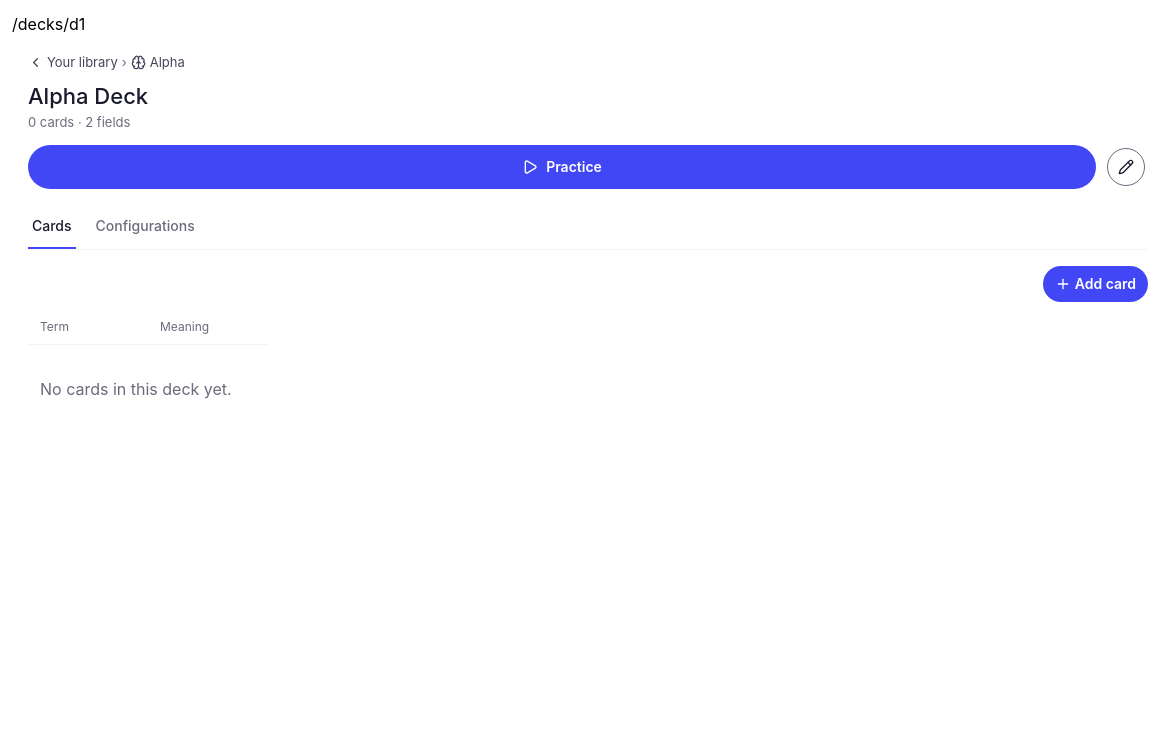
it: practice pre-filter chains › deck page → overview → New practice → New configuration, both filters riding and the deck pre-selected
Deck page → the overview, pre-filtered to subject AND deck.
Step 1. Click the button "Practice" → point(562, 166), box [28,144,1096,188]
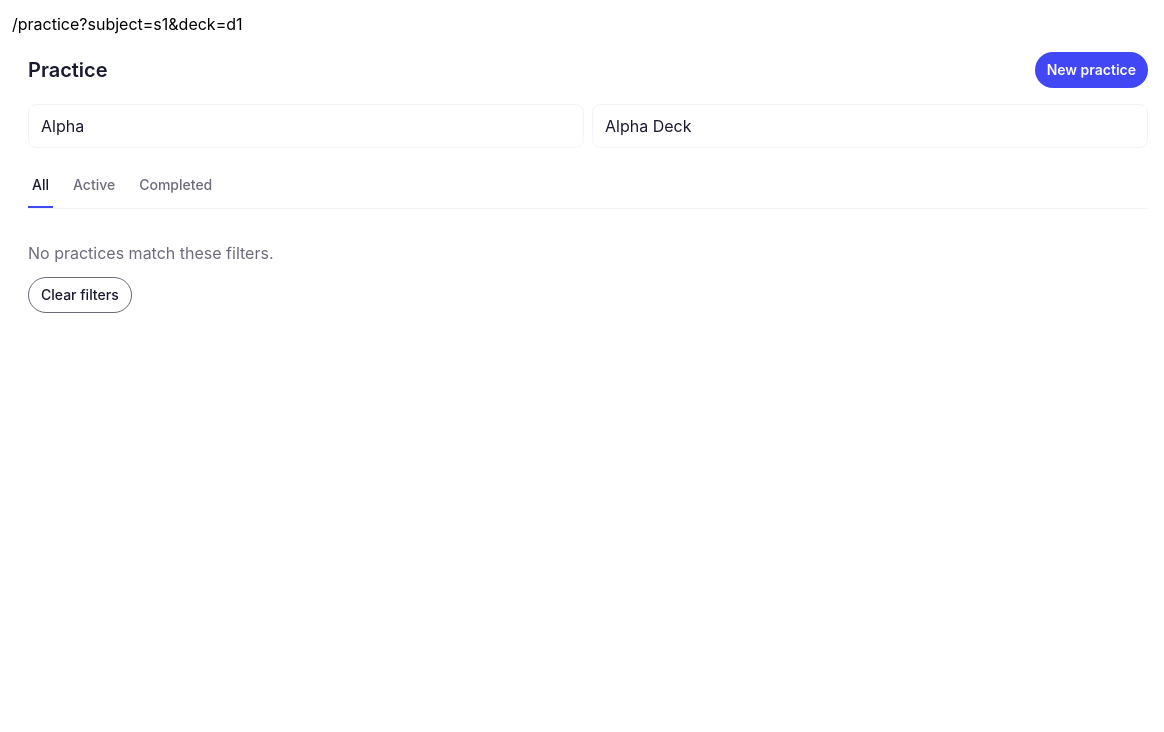
Check: the 1st dropdown with placeholder "All subjects" holds "Alpha", box [28,104,584,148]
Check: the 2nd dropdown with placeholder "All decks" holds "Alpha Deck", box [592,104,1148,148]
Overview → New practice with both filters intact.
Step 2. Click the button "New practice" → point(1091, 70), box [1035,52,1148,88]
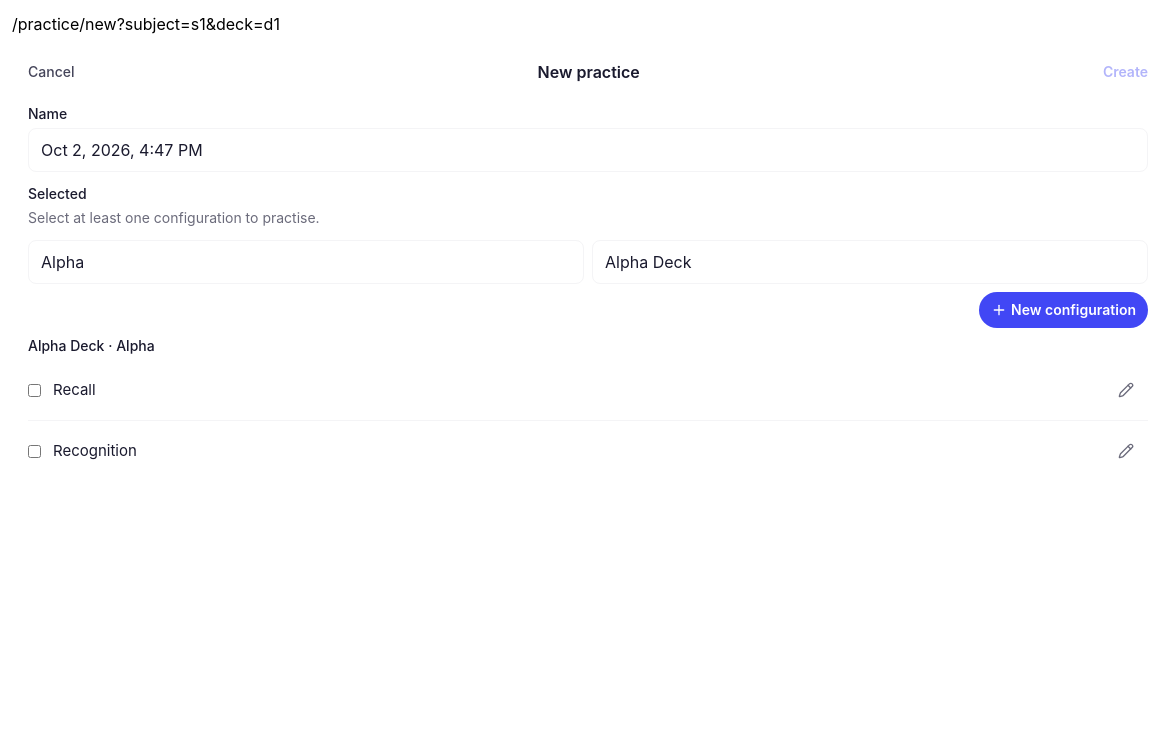
Check: the element "Alpha Deck · Alpha" is shown, box [28,336,1148,481]
New practice → the builder: the deck arrives pre-selected, straight to its board.
Step 3. Click the button "New configuration" → point(1064, 310), box [979,292,1148,328]
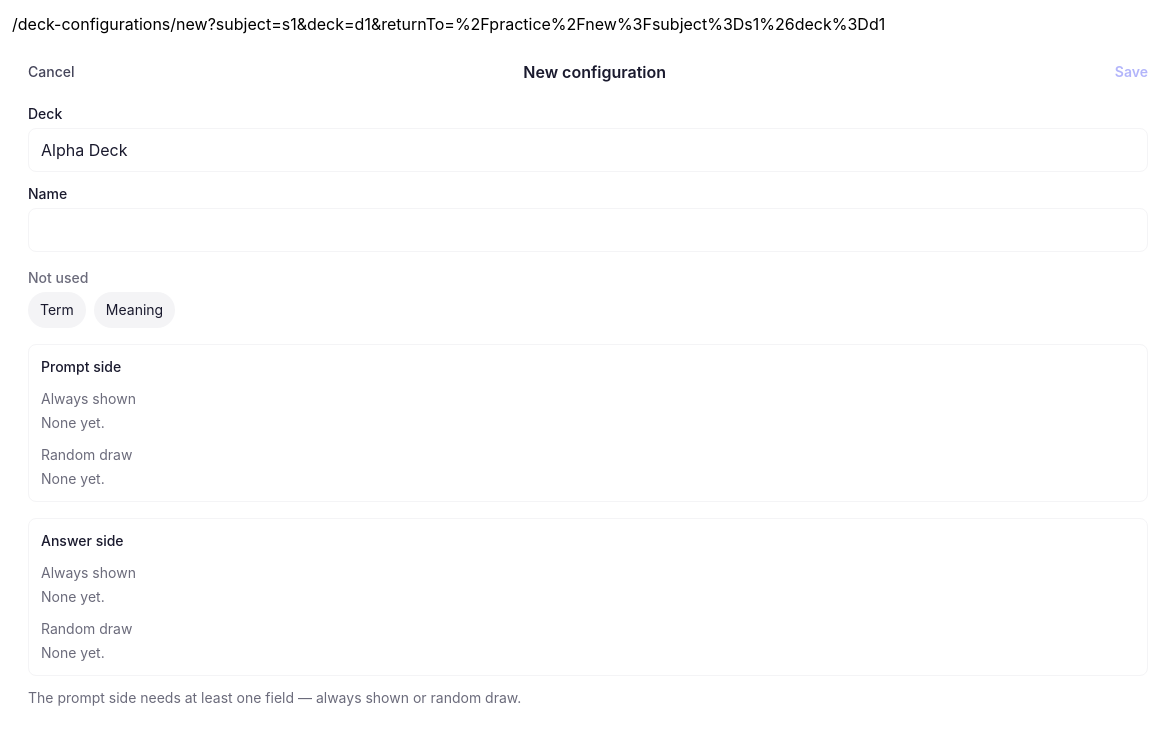
Check: the button "Term" is shown, box [28,292,86,328]
Check: the dropdown with placeholder "Deck" holds "Alpha Deck", box [28,128,1148,172]
